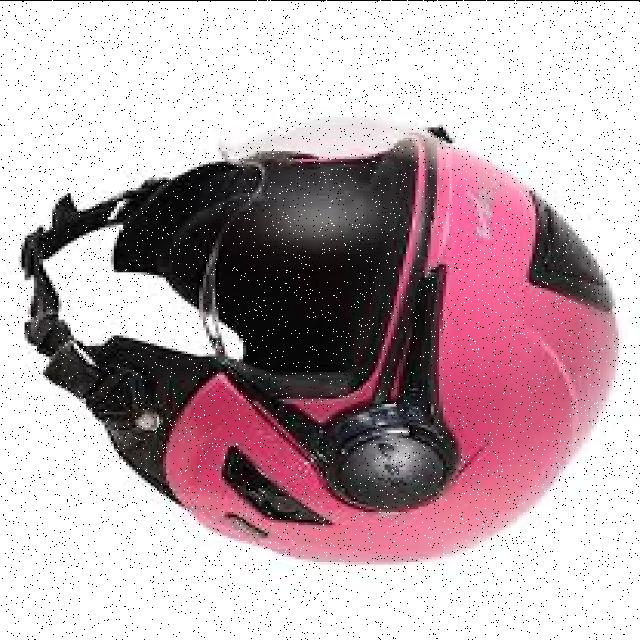Helmet: (22, 129, 617, 563)
